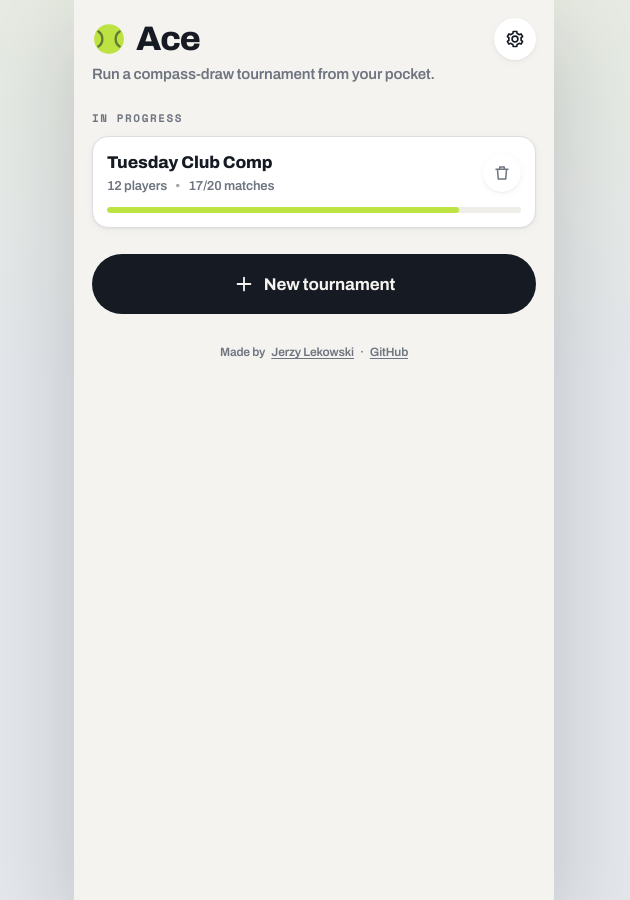
Test: App › starts a new tournament from home and shows the setup screen
Click the button "New tournament".
click(314, 284)  # box [92,254,536,314]
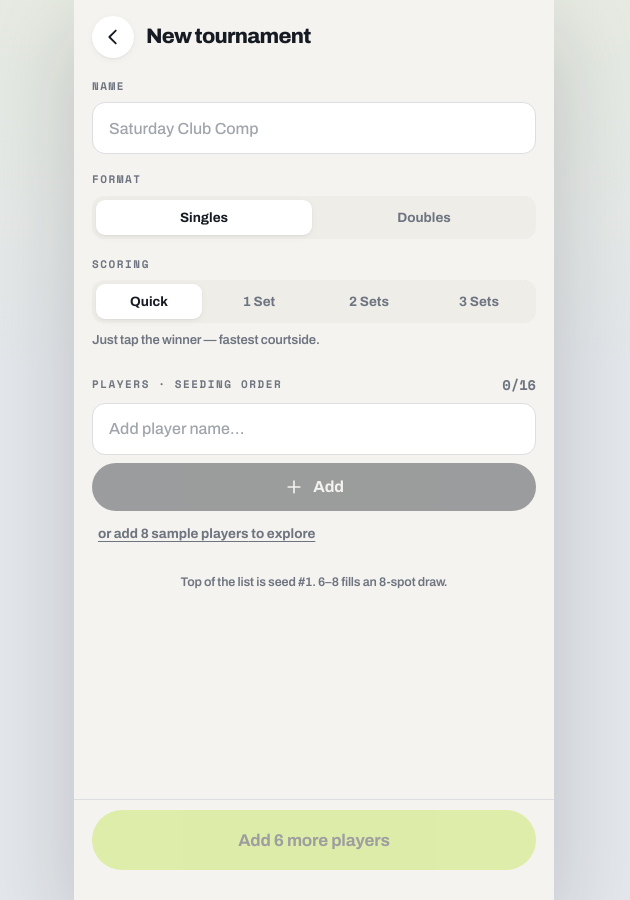
Expected: the text "Scoring" is shown, [92,256,150,272]
Expected: the text "players · seeding order" is shown, [92,378,282,393]
